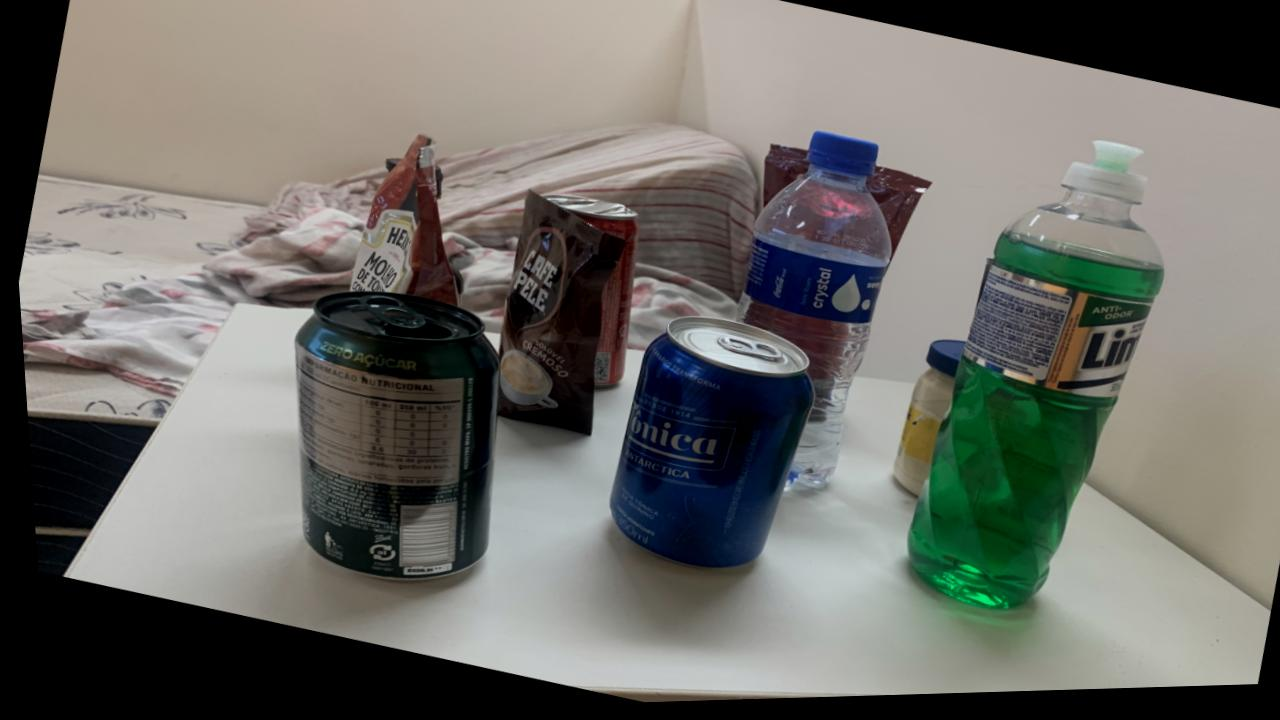Coffee-Pantry_Items: (491, 194, 622, 438)
Coke-Drinks: (541, 198, 635, 391)
Detergent-Cleanup_Items: (899, 148, 1160, 615)
Guarana_Can-Drinks: (289, 293, 493, 582)
Mayonnaise-Pantry_Items: (887, 346, 958, 500)
Tomato_Sauce-Pantry_Items: (346, 137, 455, 308), (863, 171, 928, 259), (759, 148, 807, 209)
Tonic-Drinks: (602, 322, 806, 572)
Water_Bottle-Drinks: (733, 138, 888, 493)
